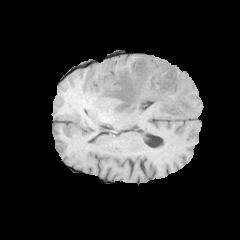glioma: (96, 56, 197, 115)
